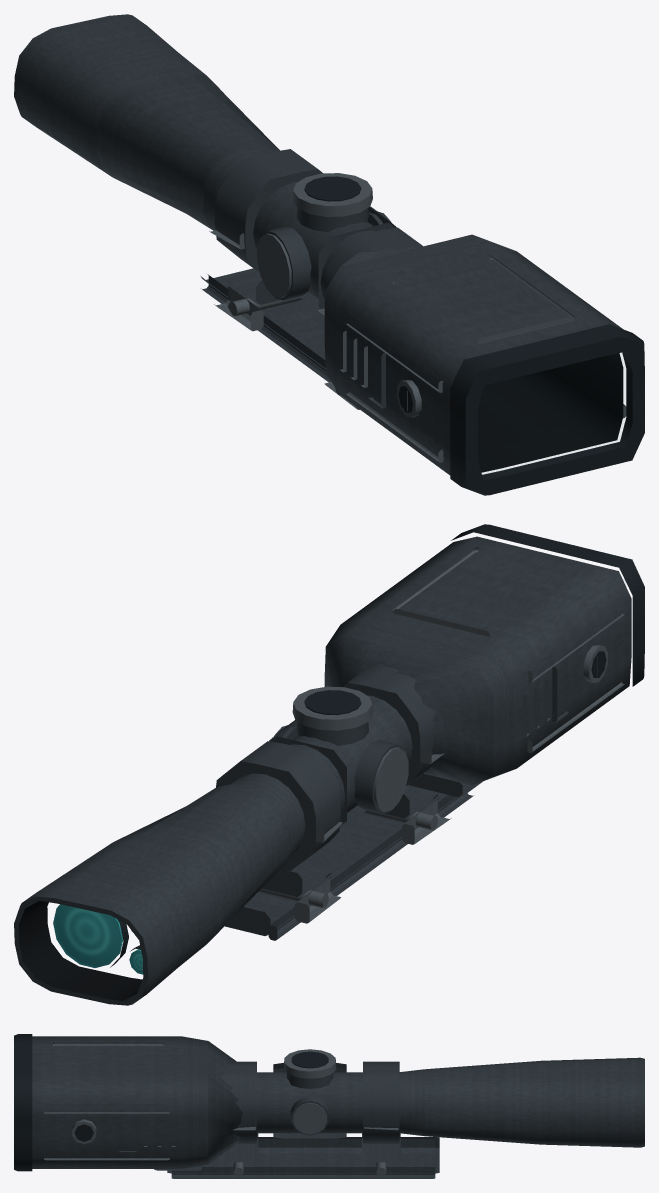
The model's file is spr_scope_light.glb.
The picture shows the model from 3 angles, top to bottom: view 1: azimuth 30°, elevation 25°; view 2: azimuth 150°, elevation 25°; view 3: azimuth 270°, elevation 25°; orthographic projection. The views are drawn at different scales.
Parts seen in each view (by area): view 1: ScopeHousing, ScopeMount, ScopeDarkInterior; view 2: ScopeHousing, ScopeMount, ScopeDarkInterior, FrontObjectiveGlass; view 3: ScopeHousing, ScopeMount.
Boxes of the visible parts, <box> form: ScopeHousing: <box>14,14,644,495</box>; ScopeMount: <box>200,149,422,409</box>; ScopeDarkInterior: <box>478,353,623,472</box>; ScopeHousing: <box>14,524,644,1005</box>; ScopeMount: <box>216,663,482,940</box>; ScopeDarkInterior: <box>19,901,142,1001</box>; FrontObjectiveGlass: <box>53,904,143,974</box>; ScopeHousing: <box>14,1034,644,1171</box>; ScopeMount: <box>154,1061,439,1178</box>.
Bounding box in the file's own units: 0.0694 × 0.0557 × 0.292.
Materials: 6 (6 with a texture image).
